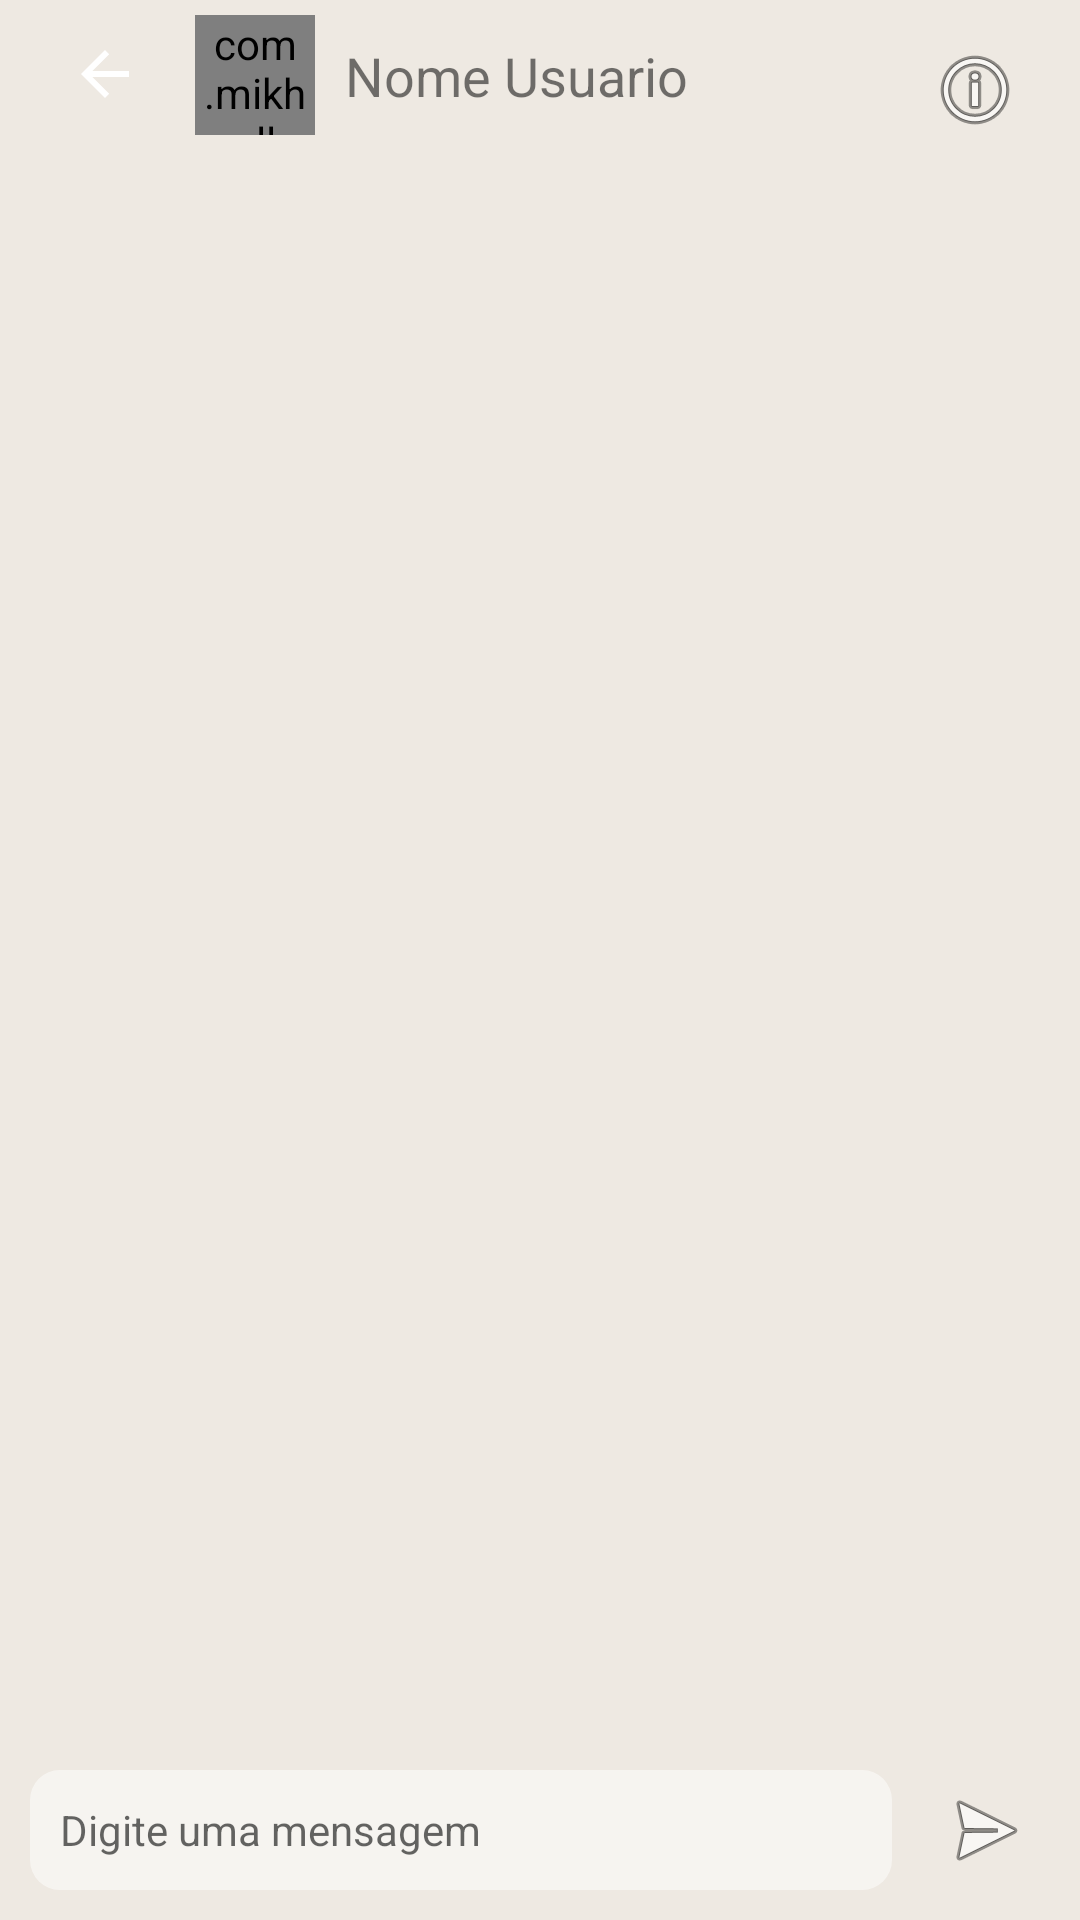

Icon bounding boxes for this 1080w x 1920h phone screenshot, format [x1=x1, y1=y1, x2=x2, y2=y2]:
info details: [x1=940, y1=55, x2=1010, y2=125]
send: [x1=956, y1=1800, x2=1018, y2=1861]
